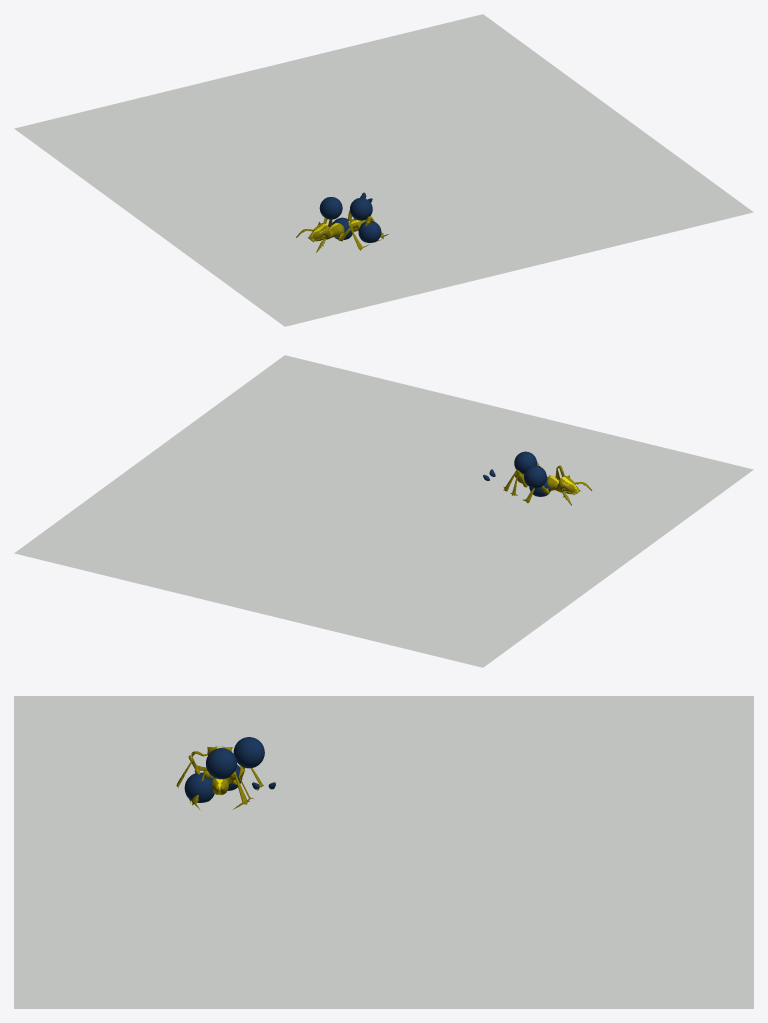
File: insect_robot.dae
3 views of the same model, one above another, from view 1: azimuth 30°, elevation 25°; view 2: azimuth 150°, elevation 25°; view 3: azimuth 270°, elevation 25° (orthographic). The views are drawn at different scales.
Visible parts, largest first — view 1: Плоскость_002, Plane_001; view 2: Плоскость_002, Plane_001; view 3: Плоскость_002, Plane_001, Сфера_004, Сфера_003, Сфера_001.
Part boxes in pixels (x1,y1,x2,y2): Плоскость_002: (14,14,753,326); Plane_001: (296,210,388,252); Плоскость_002: (14,355,753,667); Plane_001: (503,462,592,505); Плоскость_002: (14,696,753,1008); Plane_001: (176,746,263,810); Сфера_004: (206,748,236,779); Сфера_003: (233,737,264,768); Сфера_001: (184,772,214,802).
Size of the model in its own units: 135 by 135 by 18.59.
